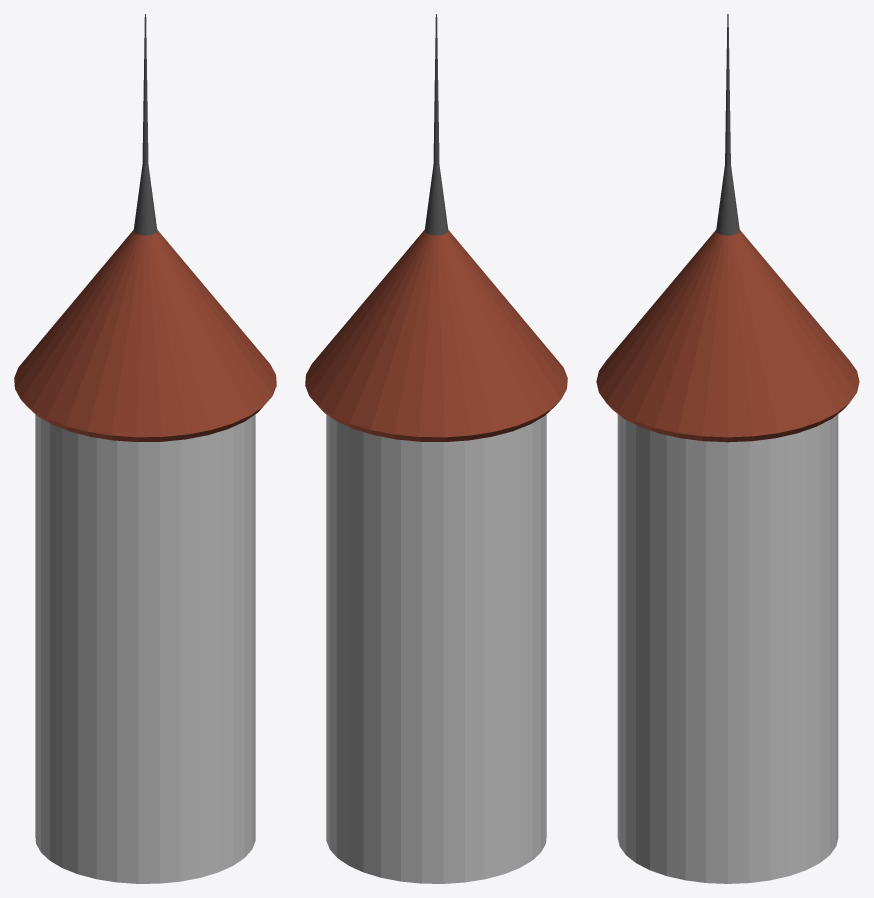
File: muroesquina.dae
3 renders of one model, left to right at view 1: azimuth 30°, elevation 25°; view 2: azimuth 150°, elevation 25°; view 3: azimuth 270°, elevation 25°, orthographic.
Parts seen in each view (by area): view 1: Cylinder, Cylinder_001, Cylinder_002; view 2: Cylinder, Cylinder_001, Cylinder_002; view 3: Cylinder, Cylinder_001, Cylinder_002.
Part boxes in pixels (x1,y1,x2,y2): Cylinder: [35, 414, 255, 883]; Cylinder_001: [14, 230, 276, 441]; Cylinder_002: [133, 14, 157, 235]; Cylinder: [326, 414, 546, 883]; Cylinder_001: [305, 230, 567, 441]; Cylinder_002: [424, 14, 448, 235]; Cylinder: [617, 414, 838, 883]; Cylinder_001: [596, 230, 859, 442]; Cylinder_002: [716, 14, 739, 235].
Size of the model in its own units: 30.82 by 30.82 by 106.
